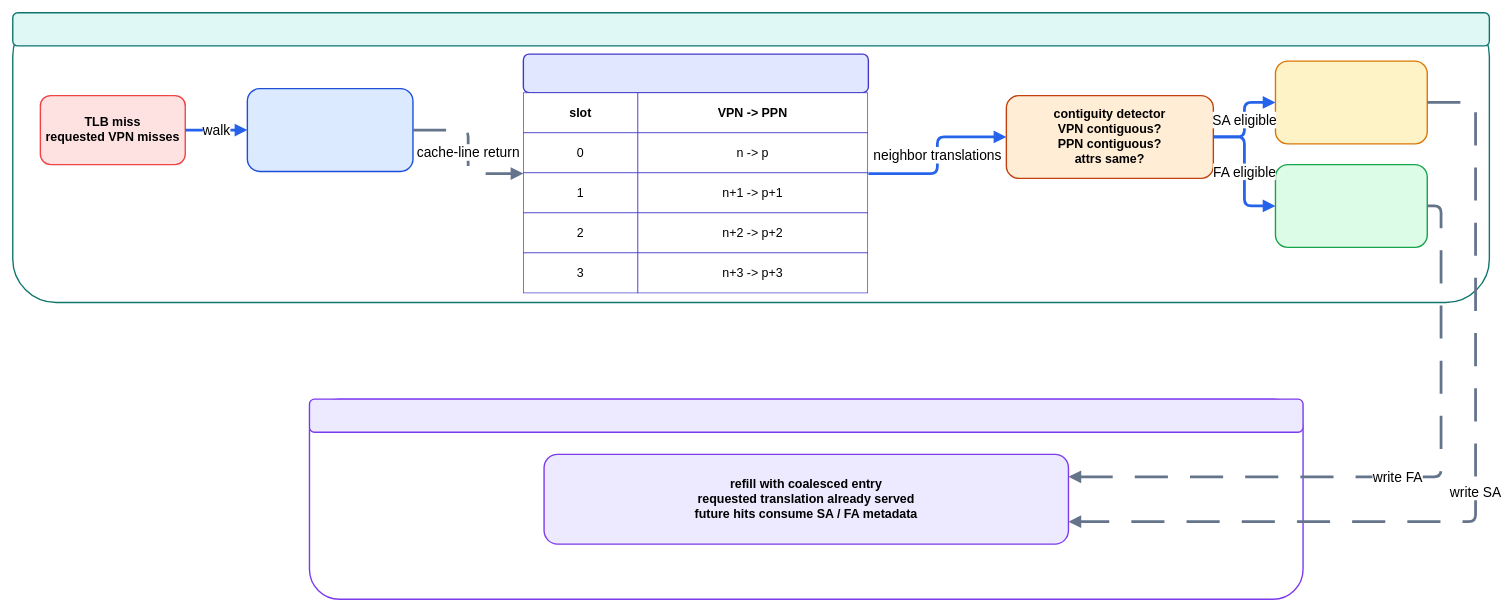
This 1512x611 diagram has some shape labels left out. The shapes that lost their labels are listed below. From the top down, each one's box as (x1, y1, x2, y2) in pixels, then its label:
(12, 12, 1490, 46): Miss / Fill Path
(522, 53, 869, 93): returned translation bundle
(1274, 60, 1428, 144): SA builder valid bits base PPN
(246, 88, 413, 172): page walk return requested translation
(1274, 164, 1428, 248): FA builder base VPN length
(308, 398, 1303, 433): Refill Result
